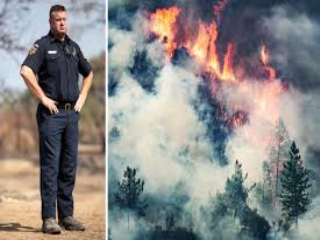fire: (150, 10, 237, 65), (206, 52, 283, 99)
smoke: (120, 76, 308, 220)
